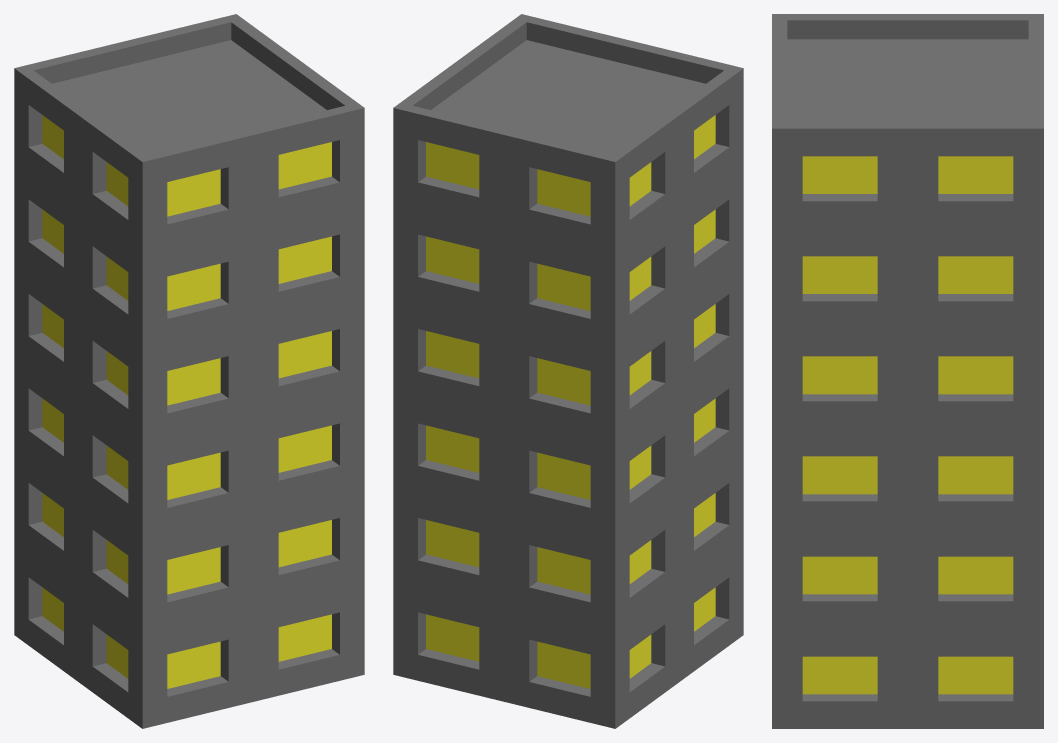
The model's file is biru.fbx.
The picture shows the model from 3 angles, left to right: view 1: azimuth 30°, elevation 25°; view 2: azimuth 150°, elevation 25°; view 3: azimuth 270°, elevation 25°; orthographic projection. The views are drawn at different scales.
Visible parts, largest first — view 1: 立方体.011, 立方体.097, 立方体.076, 立方体.080, 立方体.093, 立方体.077, 立方体.008, 立方体.009, 立方体.085, 立方体.090, 立方体.010, 立方体.022 (+20 smaller); view 2: 立方体.099, 立方体.001, 立方体.079, 立方体.002, 立方体.016, 立方体.078, 立方体.003, 立方体.004, 立方体.087, 立方体.088, 立方体.095, 立方体.005 (+20 smaller); view 3: 立方体.012, 立方体.096, 立方体.006, 立方体.007, 立方体.013, 立方体.014, 立方体.015, 立方体.017, 立方体.083, 立方体.084, 立方体.089, 立方体.092 (+10 smaller).
Boxes of the visible parts, x1=… form: 立方体.011: x1=247, y1=105, x2=364, y2=229; 立方体.097: x1=142, y1=130, x2=253, y2=256; 立方体.076: x1=253, y1=580, x2=364, y2=701; 立方体.080: x1=253, y1=486, x2=364, y2=607; 立方体.093: x1=142, y1=229, x2=253, y2=350; 立方体.077: x1=142, y1=607, x2=253, y2=728; 立方体.008: x1=253, y1=391, x2=364, y2=512; 立方体.009: x1=253, y1=297, x2=364, y2=418; 立方体.085: x1=142, y1=418, x2=253, y2=539; 立方体.090: x1=142, y1=324, x2=253, y2=445; 立方体.010: x1=253, y1=202, x2=364, y2=323; 立方体.022: x1=142, y1=513, x2=253, y2=634; 立方体.099: x1=393, y1=105, x2=510, y2=229; 立方体.001: x1=504, y1=130, x2=615, y2=256; 立方体.079: x1=393, y1=580, x2=504, y2=701; 立方体.002: x1=504, y1=229, x2=615, y2=350; 立方体.016: x1=393, y1=486, x2=504, y2=607; 立方体.078: x1=504, y1=607, x2=615, y2=728; 立方体.003: x1=504, y1=324, x2=615, y2=445; 立方体.004: x1=504, y1=418, x2=615, y2=539; 立方体.087: x1=393, y1=391, x2=504, y2=512; 立方体.088: x1=393, y1=297, x2=504, y2=418; 立方体.095: x1=393, y1=202, x2=504, y2=323; 立方体.005: x1=504, y1=513, x2=615, y2=634; 立方体.012: x1=908, y1=122, x2=1043, y2=228; 立方体.096: x1=772, y1=122, x2=907, y2=228; 立方体.006: x1=772, y1=629, x2=907, y2=728; 立方体.007: x1=772, y1=529, x2=907, y2=628; 立方体.013: x1=908, y1=229, x2=1043, y2=328; 立方体.014: x1=908, y1=329, x2=1043, y2=428; 立方体.015: x1=908, y1=429, x2=1043, y2=528; 立方体.017: x1=908, y1=629, x2=1043, y2=728; 立方体.083: x1=908, y1=529, x2=1043, y2=628; 立方体.084: x1=772, y1=429, x2=907, y2=528; 立方体.089: x1=772, y1=329, x2=907, y2=428; 立方体.092: x1=772, y1=229, x2=907, y2=328.
Bounding box in the file's own units: 10.4 × 25.35 × 10.4.
